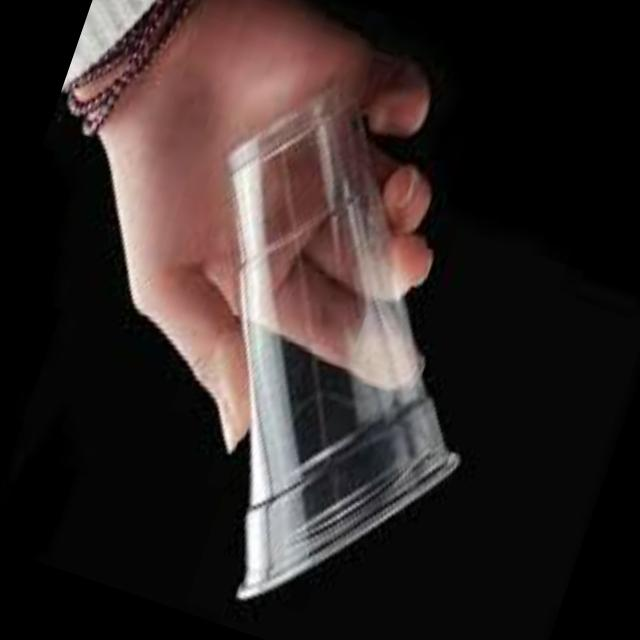GelasPlastik: (89, 55, 564, 640)
